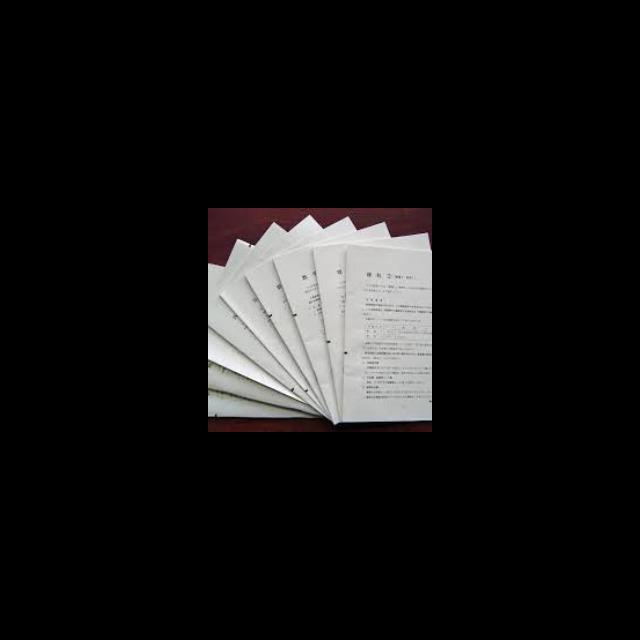paper: (208, 221, 432, 432)
